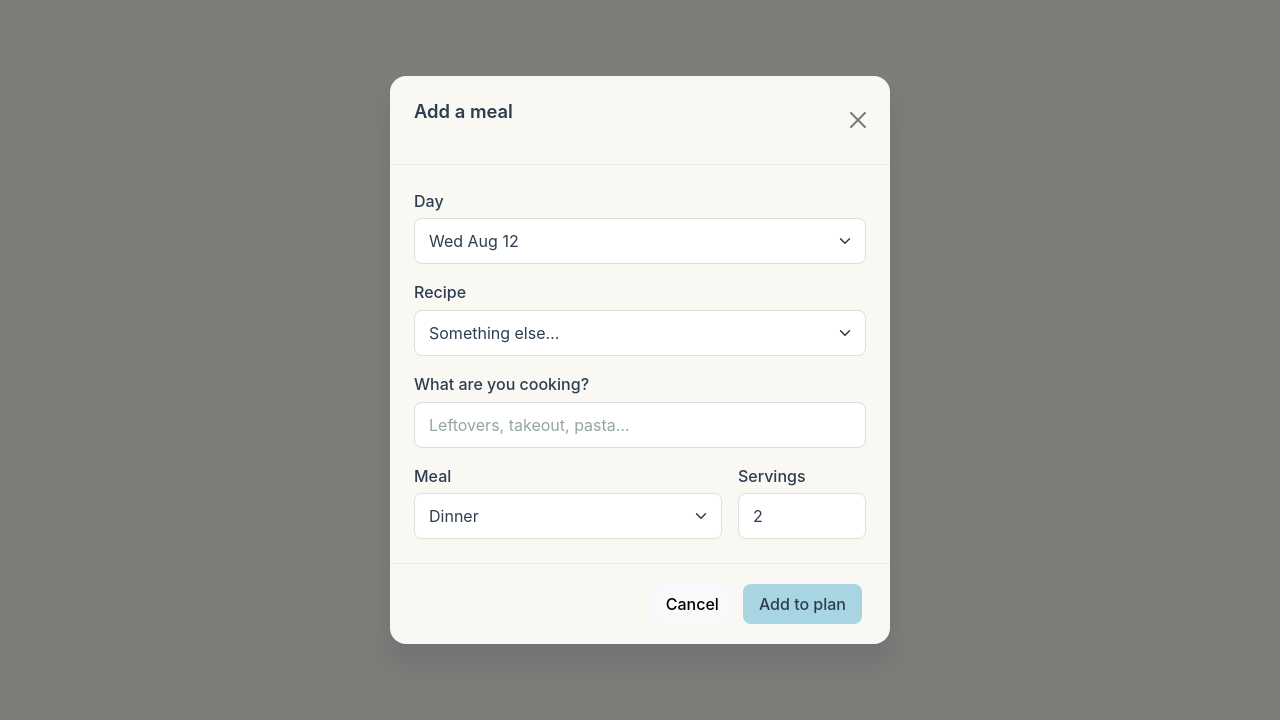
it: ScheduleMealModal › keeps the modal open and shows why when the write is rejected
The image size is (1280, 720).
In the field labelled "What are you cooking?": (640, 424) [414,402,866,448], type "Soup"
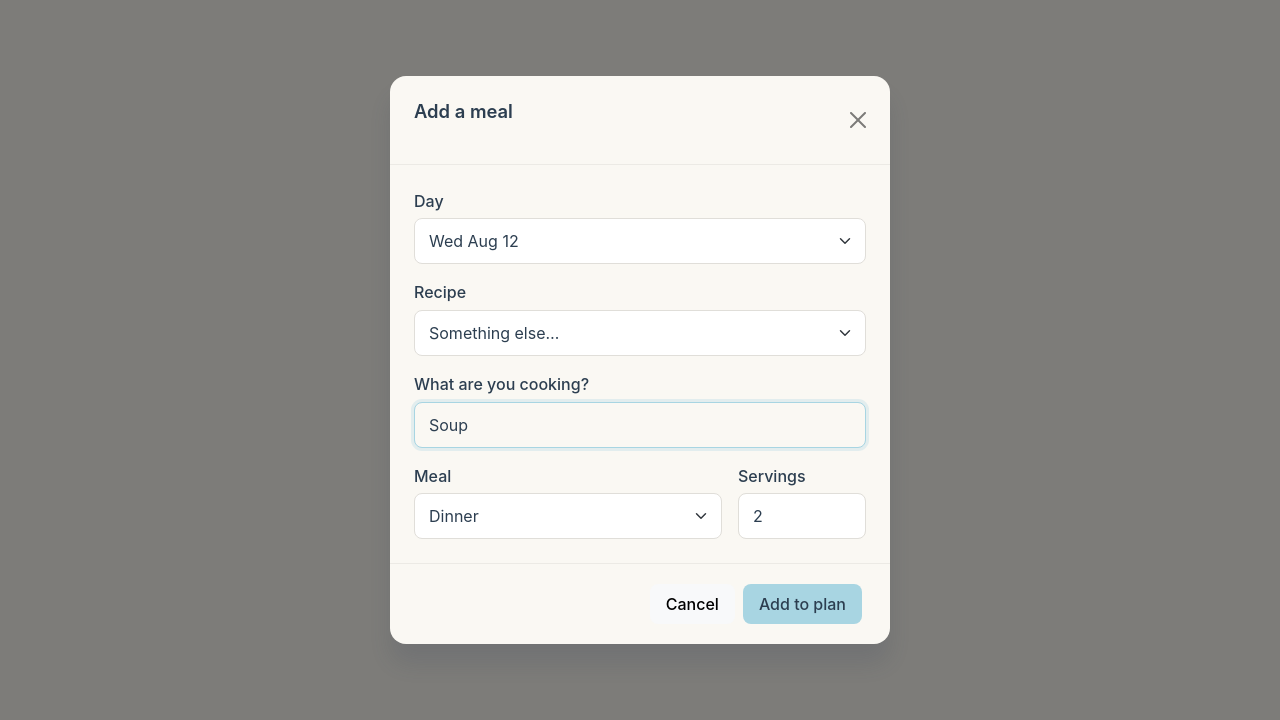
Click the button "Add to plan": click(802, 604) [743,584,862,624]
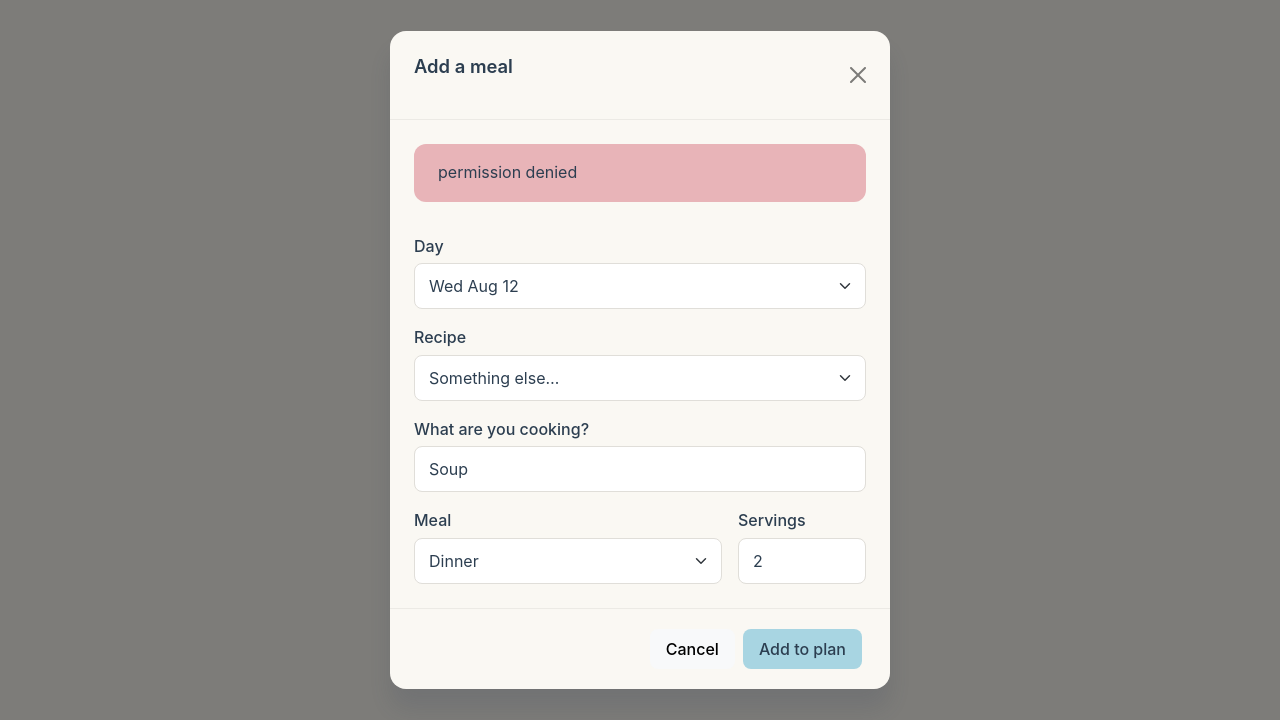
Expected: the text "permission denied" is shown, [414,144,866,202]
